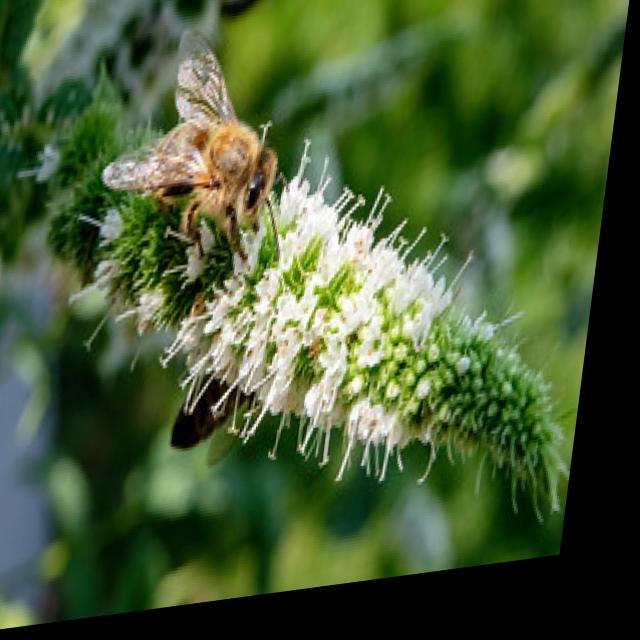Abeille: (98, 27, 326, 282)
